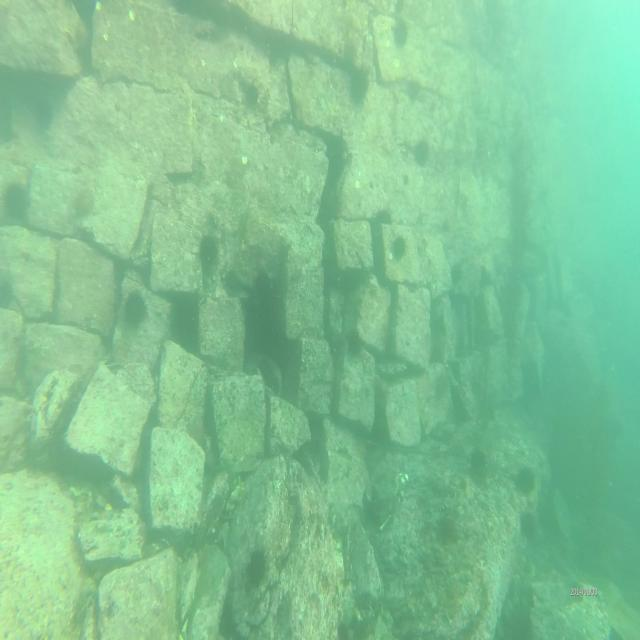echinus: (122, 281, 152, 336), (194, 228, 222, 276), (345, 63, 370, 109), (246, 543, 268, 594), (70, 180, 98, 219), (4, 179, 28, 223), (344, 322, 364, 364), (414, 134, 432, 174), (390, 227, 410, 263), (517, 461, 535, 496), (392, 16, 410, 49), (0, 271, 14, 312), (519, 507, 534, 544), (371, 204, 394, 228), (244, 83, 260, 112)
